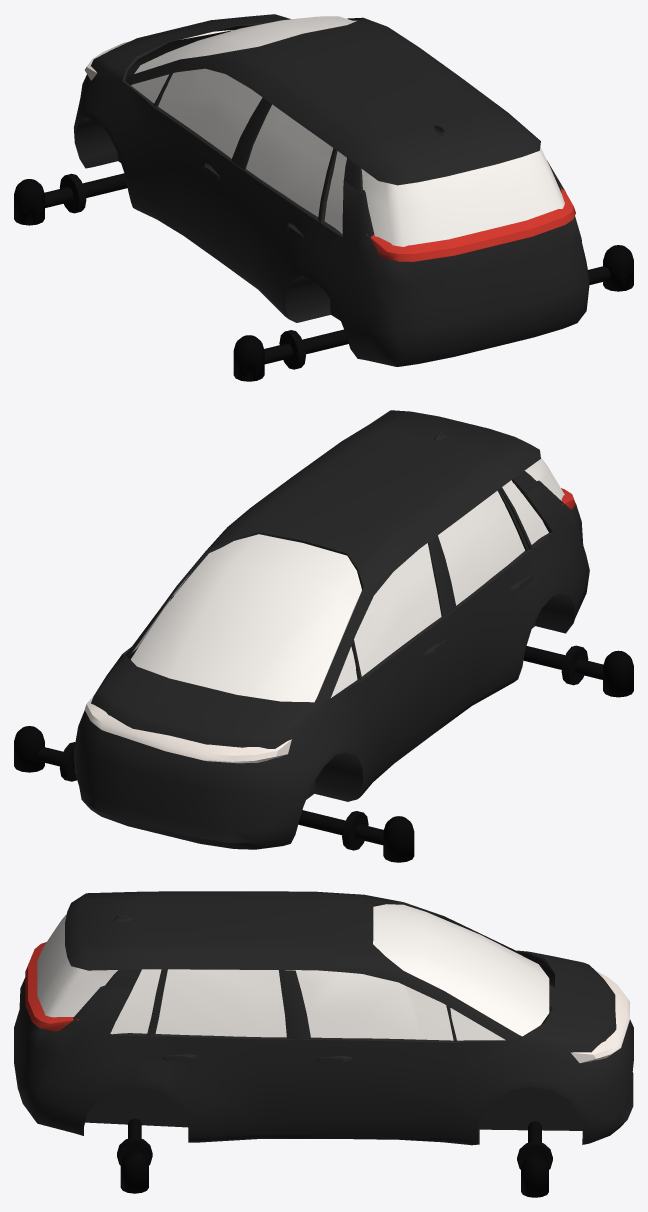
Rendered from Car3.fbx.
3 views of the same model, one above another, from view 1: azimuth 30°, elevation 25°; view 2: azimuth 150°, elevation 25°; view 3: azimuth 270°, elevation 25° (orthographic). The views are drawn at different scales.
Visible parts, largest first — view 1: Car3, Dron, Rail; view 2: Car3, Dron, Rail; view 3: Car3, Dron, Rail.
Part boxes in pixels (x1,y1,x2,y2): Car3: [74, 14, 589, 366]; Dron: [14, 174, 633, 381]; Rail: [59, 173, 347, 369]; Car3: [73, 410, 589, 849]; Dron: [14, 646, 633, 862]; Rail: [59, 645, 588, 850]; Car3: [14, 891, 633, 1145]; Dron: [120, 1120, 548, 1197]; Rail: [117, 1118, 552, 1169].
Size of the model in its own units: 2965 by 1546 by 4410.
Materials: 1 (1 with a texture image).
